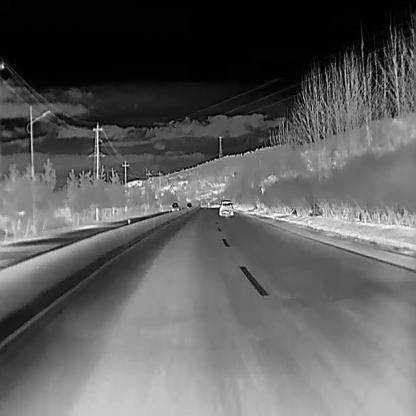car: (218, 198, 233, 216), (171, 202, 179, 210), (185, 202, 192, 208)
